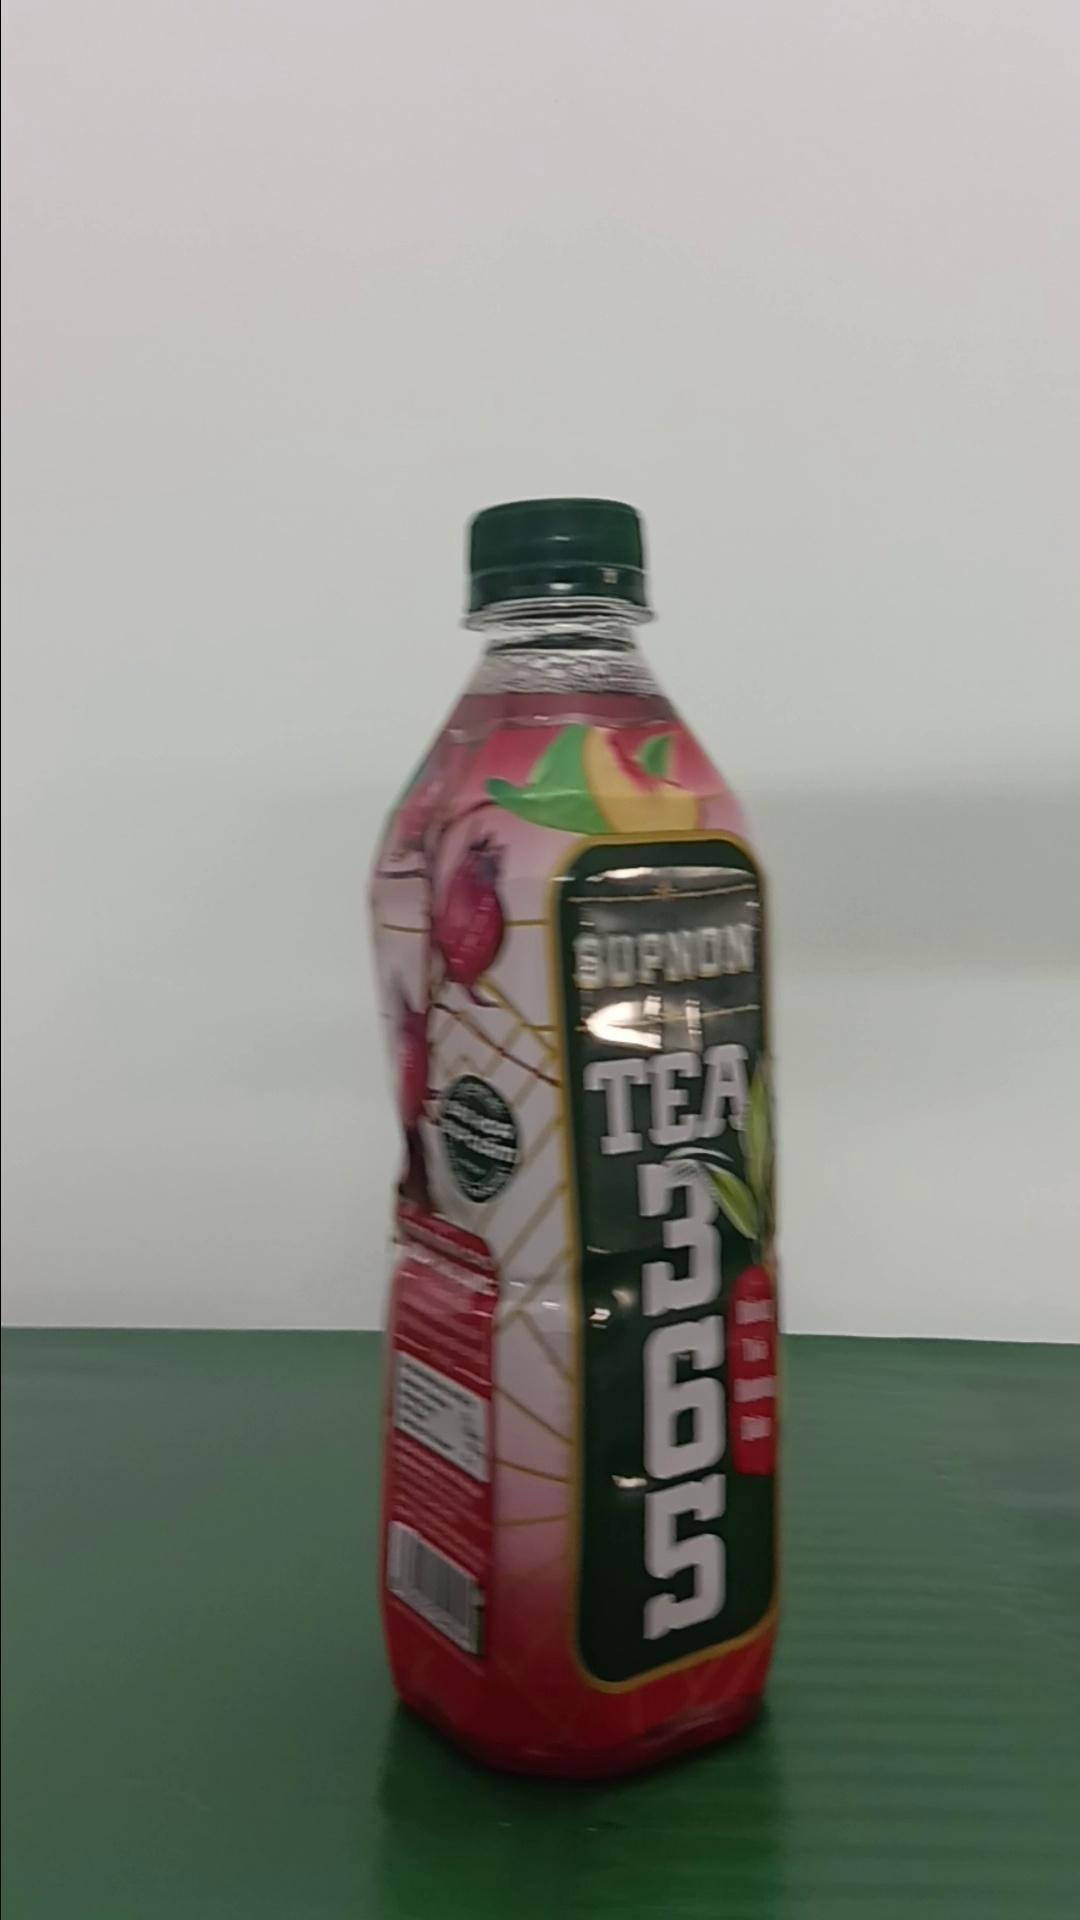loi meo sp: (364, 493, 786, 1782)
